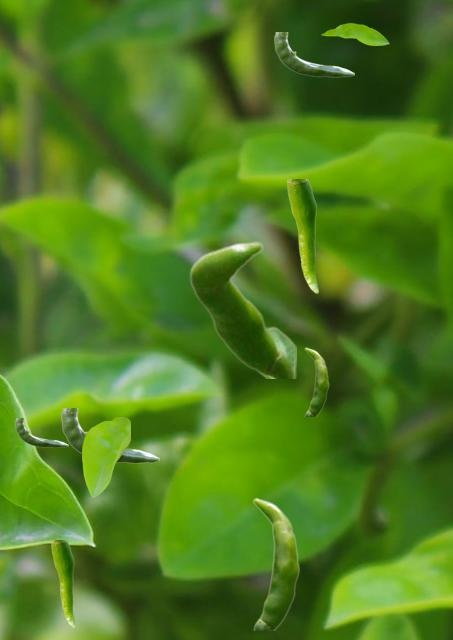green_chili: (189, 241, 295, 377), (252, 497, 299, 629), (61, 408, 158, 462), (274, 32, 353, 76), (287, 179, 317, 292), (51, 540, 74, 627), (304, 347, 328, 415), (15, 418, 67, 446)
